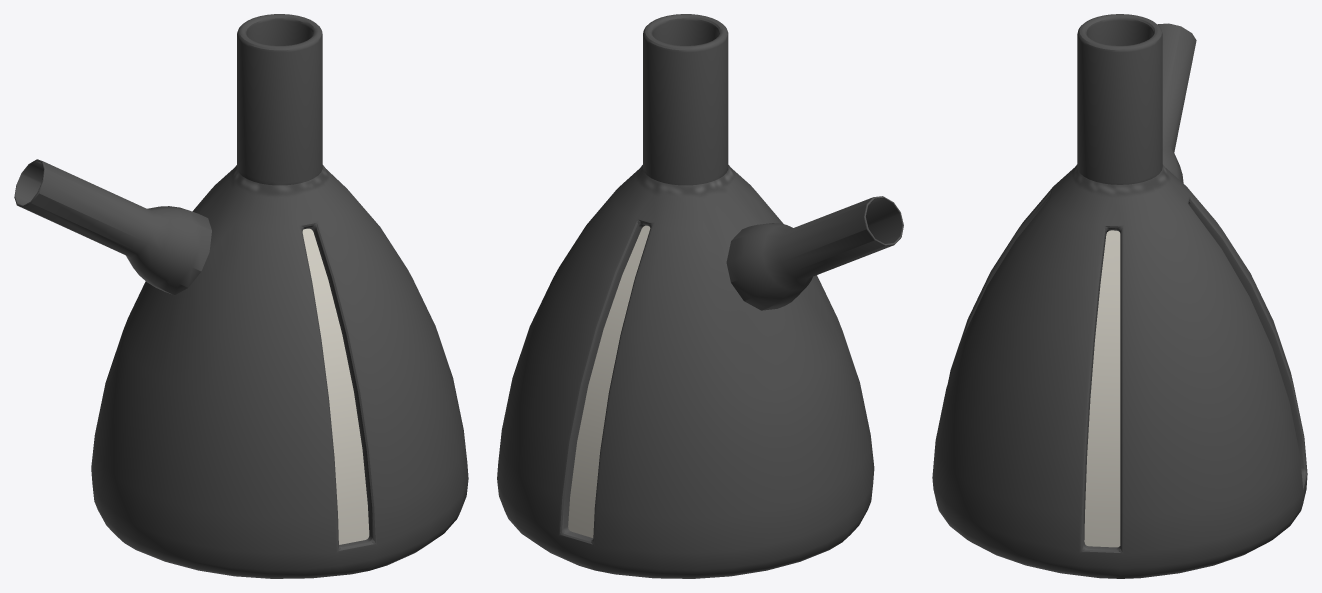
File: Grugpot.fbx
The picture shows the model from 3 angles, left to right: view 1: azimuth 30°, elevation 25°; view 2: azimuth 150°, elevation 25°; view 3: azimuth 270°, elevation 25°; orthographic projection.
Parts seen in each view (by area): view 1: Sphere; view 2: Sphere; view 3: Sphere.
Boxes of the visible parts, x1,y1,x2,y2 form: Sphere: (14,14,468,578); Sphere: (497,14,903,578); Sphere: (932,14,1307,578).
Bounding box in the file's own units: 244 × 278 × 199.
